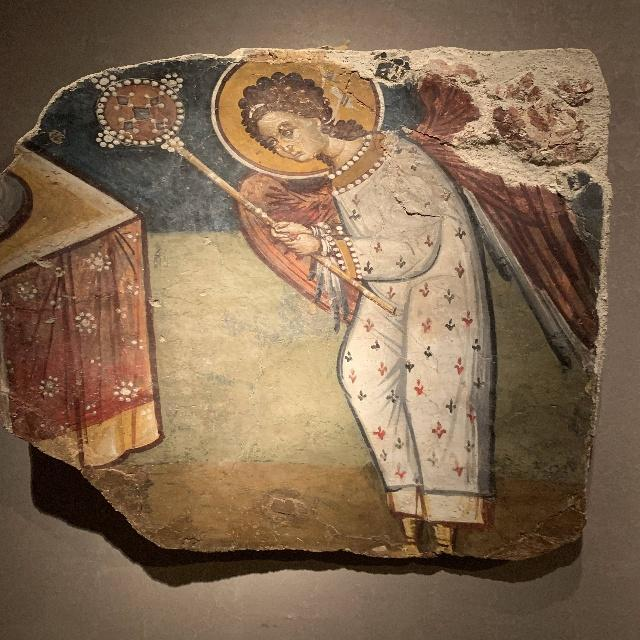angel: (94, 36, 612, 577)
aura: (215, 47, 399, 180)
scepter: (85, 68, 392, 319)
wing: (408, 59, 616, 387), (230, 170, 355, 305)
